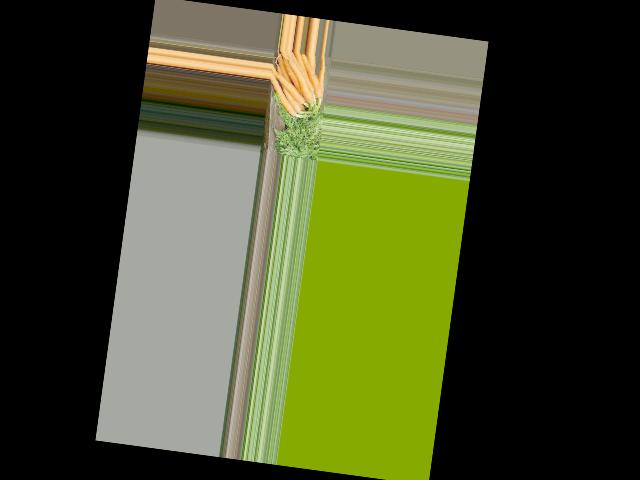carrot: (294, 52, 328, 100)
